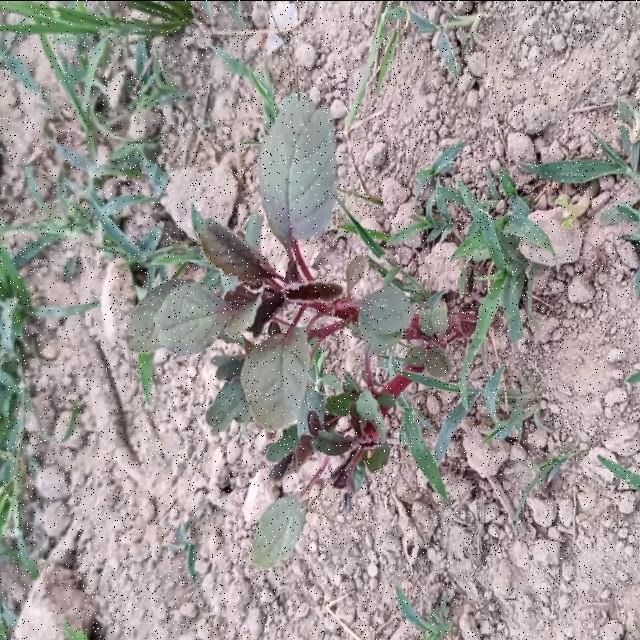plant: (128, 96, 474, 484), (250, 486, 309, 566)
